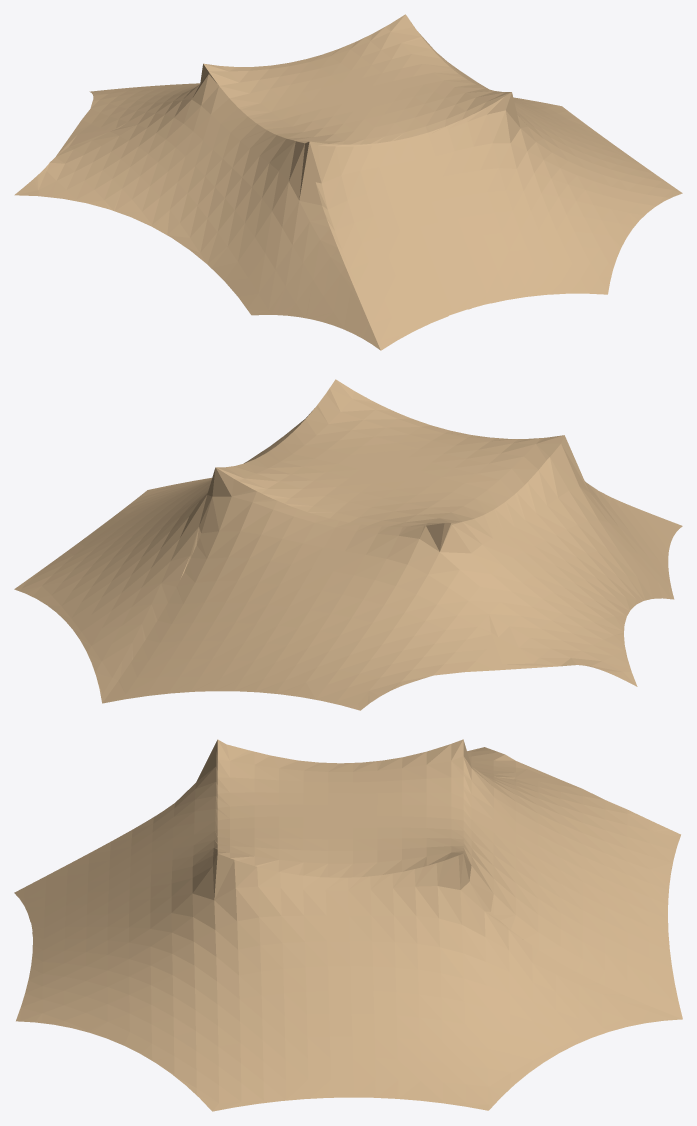
File: Prop_Building_Canopy_Canvas_01.FBX
3 views of the same model, one above another, from view 1: azimuth 30°, elevation 25°; view 2: azimuth 150°, elevation 25°; view 3: azimuth 270°, elevation 25° (orthographic). The views are drawn at different scales.
Visible parts, largest first — view 1: Prop_Building_Canopy_Canvas_01; view 2: Prop_Building_Canopy_Canvas_01; view 3: Prop_Building_Canopy_Canvas_01.
Part boxes in pixels (x1,y1,x2,y2): Prop_Building_Canopy_Canvas_01: (14, 14, 682, 350); Prop_Building_Canopy_Canvas_01: (14, 379, 682, 710); Prop_Building_Canopy_Canvas_01: (14, 739, 682, 1111).
Size of the model in its own units: 18591 by 4539 by 16901.
